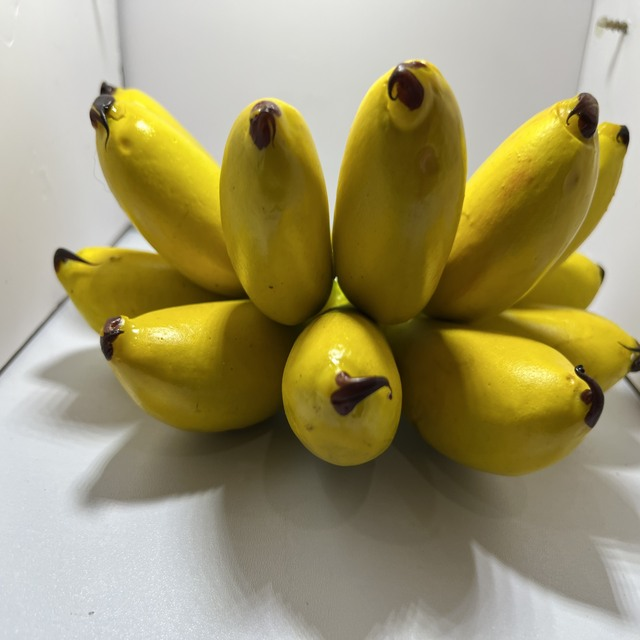Chuoi: (54, 57, 640, 476)
